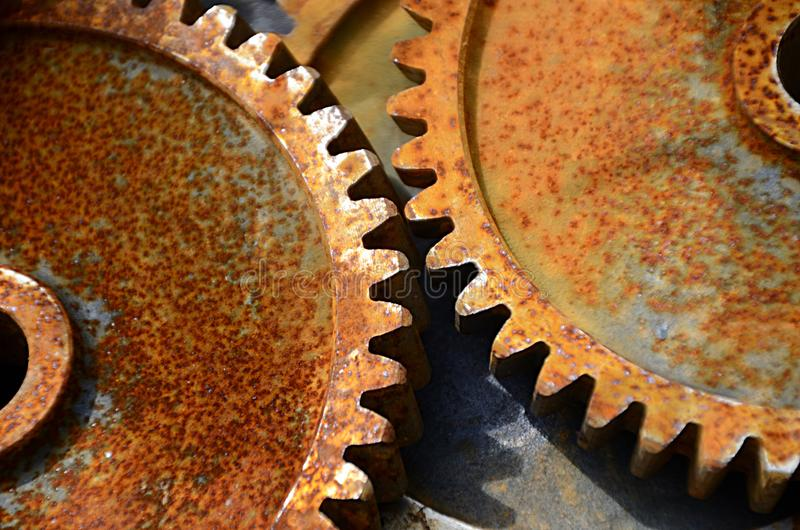rust: (4, 8, 406, 530), (410, 4, 800, 493)
